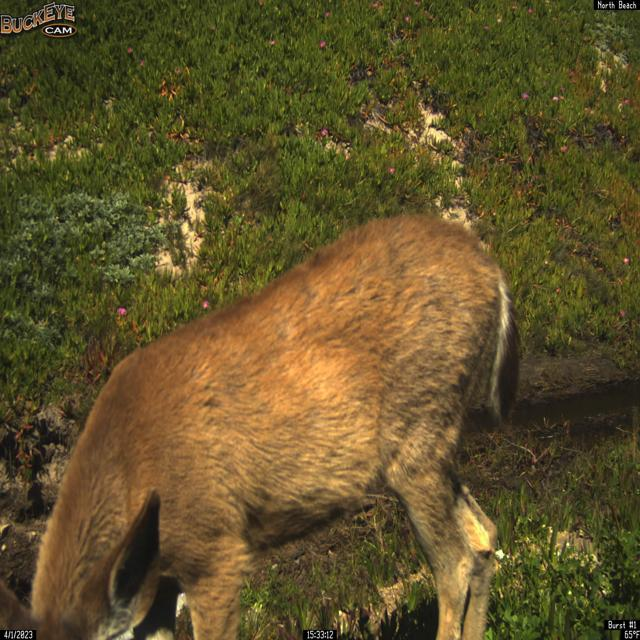deer: (0, 213, 521, 639)
